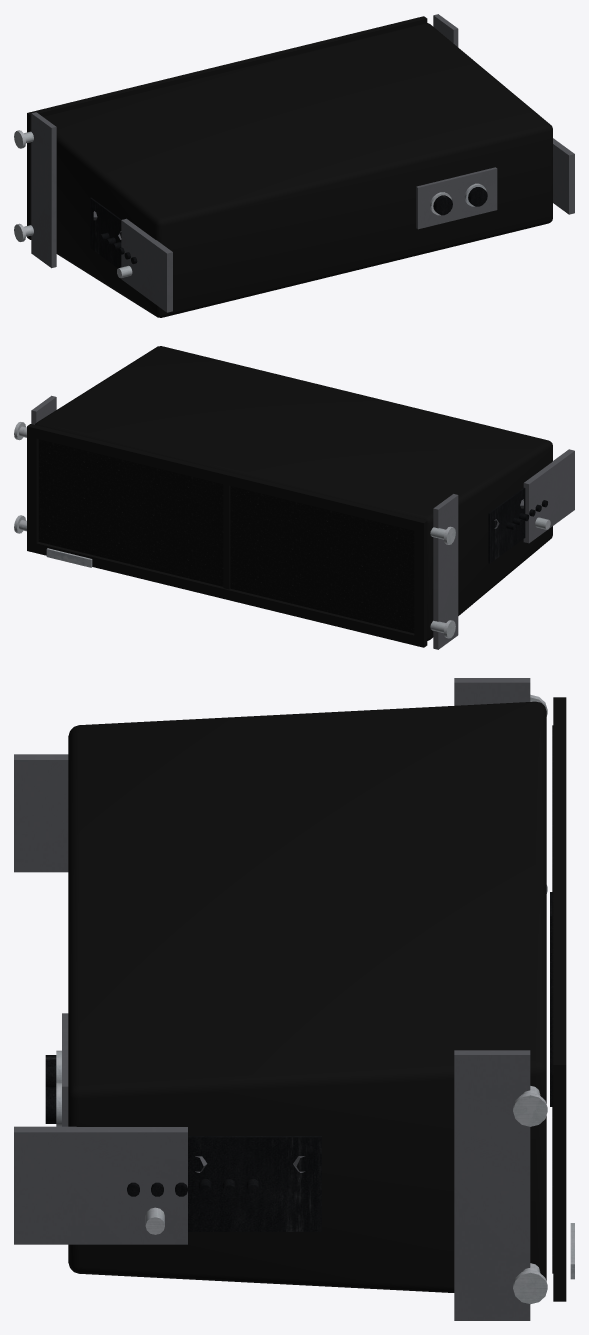
File: line_array_why.gltf
3 renders of one model, top to bottom at view 1: azimuth 30°, elevation 25°; view 2: azimuth 150°, elevation 25°; view 3: azimuth 270°, elevation 25°, orthographic. The views are drawn at different scales.
Visible parts, largest first — view 1: line_array_why; view 2: line_array_why; view 3: line_array_why.
Part boxes in pixels (<box>): line_array_why: <box>14,14,574,317</box>; line_array_why: <box>14,346,574,649</box>; line_array_why: <box>14,678,574,1320</box>.
Bounding box in the file's own units: 0.872 × 0.27 × 0.516.
5 materials, 5 textured.
